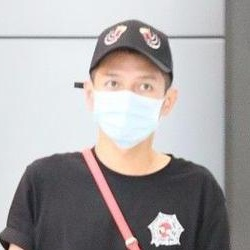mask: (88, 84, 165, 148)
